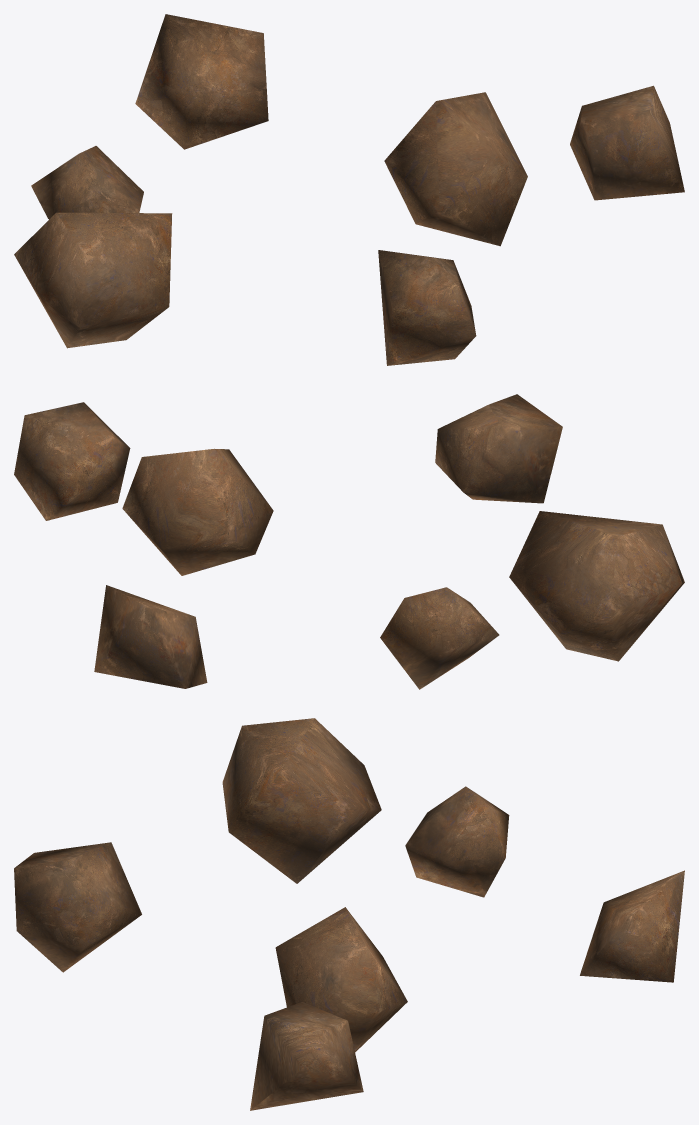
Rendered from Stones_Tiny1_L1.fbx.
3 renders of one model, top to bottom at view 1: azimuth 30°, elevation 25°; view 2: azimuth 150°, elevation 25°; view 3: azimuth 270°, elevation 25°, orthographic.
Parts seen in each view (by area): view 1: polySurface223; view 2: polySurface223; view 3: polySurface223.
Part boxes in pixels (box(x1,y1,x2,y2)): polySurface223: box(14, 14, 684, 365); polySurface223: box(14, 394, 684, 689); polySurface223: box(14, 718, 684, 1110).
Size of the model in its own units: 27.39 by 5.66 by 24.57.
